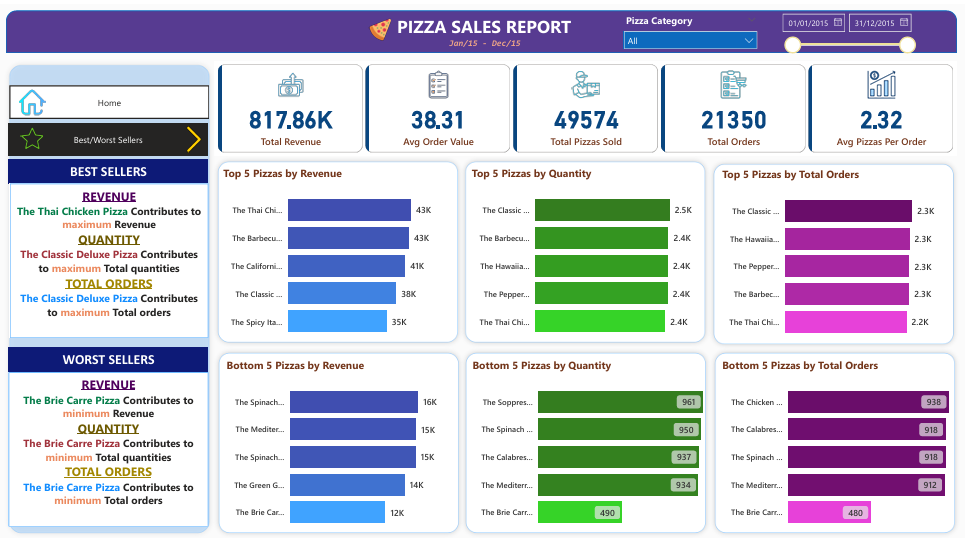

Layout of this report page (visuals, bound fields, positions):
{"tool":"powerbi","page":{"name":"Best/Worst Sellers","canvas":[1500,820],"ordinal":1},"visuals":[{"type":"shape","box":[335,526.7,385,293.3],"z":0},{"type":"shape","box":[715,526.7,385,293.3],"z":1000},{"type":"shape","box":[1098.3,526.7,385,293.3],"z":2000},{"type":"shape","box":[1096.2,236.7,385,293.3],"z":3000},{"type":"shape","box":[714.5,233.3,385,293.3],"z":4000},{"type":"shape","box":[334.5,233.3,385,293.3],"z":5000},{"type":"cardVisual","fields":{"Data":["pizza_sales.Total Revenue","pizza_sales.Avg Order Value","pizza_sales.Total Pizzas Sold","pizza_sales.Total Orders","pizza_sales.Avg Pizzas Per Order"]},"box":[336.7,86.7,1141.7,145],"z":6000},{"type":"shape","box":[16.2,9.5,1462.1,64.9],"z":7000},{"type":"textbox","box":[591.1,8.9,319.6,48.2],"z":8000},{"type":"textbox","box":[681.7,45,140,30],"z":9000},{"type":"image","box":[560.7,16.1,60.7,44.6],"z":10000},{"type":"shape","box":[13.3,85,323.3,735],"z":11000},{"type":"textbox","box":[20,238.3,306.7,36.7],"z":12000},{"type":"textbox","box":[21.7,275,305,236.7],"z":13000},{"type":"textbox","box":[20,526.7,306.7,38.3],"z":14000},{"type":"textbox","box":[20,565,306.7,236.7],"z":15000},{"type":"slicer","fields":{"Values":["pizza_sales.pizza_category"]},"box":[955.7,8.6,225.7,65.7],"z":16000},{"type":"slicer","fields":{"Values":["pizza_sales.order_date"]},"box":[1197.1,3.7,225.8,71.6],"z":17000},{"type":"barChart","title":"Top 5 Pizzas by Revenue","fields":{"Category":["pizza_sales.pizza_name"],"Y":["pizza_sales.Total Revenue"]},"box":[345,248.3,370,278.3],"z":18000},{"type":"barChart","title":"Bottom 5 Pizzas by Revenue","fields":{"Category":["pizza_sales.pizza_name"],"Y":["pizza_sales.Total Revenue"]},"box":[350,543.3,360,276.7],"z":19000},{"type":"barChart","title":"Top 5 Pizzas by Quantity","fields":{"Category":["pizza_sales.pizza_name"],"Y":["pizza_sales.Total Pizzas Sold"]},"box":[726.7,248.3,360,278.3],"z":20000},{"type":"barChart","title":"Bottom 5 Pizzas by Quantity","fields":{"Category":["pizza_sales.pizza_name"],"Y":["pizza_sales.Total Pizzas Sold"]},"box":[728.3,543.3,375,276.7],"z":21000},{"type":"barChart","title":"Top 5 Pizzas by Total Orders","fields":{"Category":["pizza_sales.pizza_name"],"Y":["pizza_sales.Total Orders"]},"box":[1111.7,250,358.3,276.7],"z":22000},{"type":"barChart","title":"Bottom 5 Pizzas by Total Orders","fields":{"Category":["pizza_sales.pizza_name"],"Y":["pizza_sales.Total Orders"]},"box":[1111.7,543.3,375,276.7],"z":23000},{"type":"pageNavigator","box":[20,181.7,306.7,50],"z":24000},{"type":"pageNavigator","box":[21.7,125,306.7,50],"z":25000},{"type":"image","box":[280,181.7,50,50],"z":26000},{"type":"image","box":[25,125,61.7,50],"z":27000},{"type":"image","box":[25,183.3,61.7,45],"z":28000}]}

Visuals, with their boxes in screenshot pixels (x1, y1, x2, y2), scaled from the page's 1500x820 canvas onto the 965x542 screenshot:
shape: x1=216 y1=348 x2=463 y2=541
shape: x1=460 y1=348 x2=708 y2=541
shape: x1=707 y1=348 x2=954 y2=541
shape: x1=705 y1=156 x2=953 y2=350
shape: x1=460 y1=154 x2=707 y2=348
shape: x1=215 y1=154 x2=463 y2=348
cardVisual - pizza_sales.Total Revenue x pizza_sales.Avg Order Value: x1=217 y1=57 x2=951 y2=153
shape: x1=10 y1=6 x2=951 y2=49
textbox: x1=380 y1=6 x2=586 y2=38
textbox: x1=439 y1=30 x2=529 y2=50
image: x1=361 y1=11 x2=400 y2=40
shape: x1=9 y1=56 x2=217 y2=541
textbox: x1=13 y1=158 x2=210 y2=182
textbox: x1=14 y1=182 x2=210 y2=338
textbox: x1=13 y1=348 x2=210 y2=373
textbox: x1=13 y1=373 x2=210 y2=530
slicer - pizza_sales.pizza_category: x1=615 y1=6 x2=760 y2=49
slicer - pizza_sales.order_date: x1=770 y1=2 x2=915 y2=50
"Top 5 Pizzas by Revenue" barChart: x1=222 y1=164 x2=460 y2=348
"Bottom 5 Pizzas by Revenue" barChart: x1=225 y1=359 x2=457 y2=541
"Top 5 Pizzas by Quantity" barChart: x1=468 y1=164 x2=699 y2=348
"Bottom 5 Pizzas by Quantity" barChart: x1=469 y1=359 x2=710 y2=541
"Top 5 Pizzas by Total Orders" barChart: x1=715 y1=165 x2=946 y2=348
"Bottom 5 Pizzas by Total Orders" barChart: x1=715 y1=359 x2=956 y2=541
pageNavigator: x1=13 y1=120 x2=210 y2=153
pageNavigator: x1=14 y1=83 x2=211 y2=116
image: x1=180 y1=120 x2=212 y2=153
image: x1=16 y1=83 x2=56 y2=116
image: x1=16 y1=121 x2=56 y2=151
